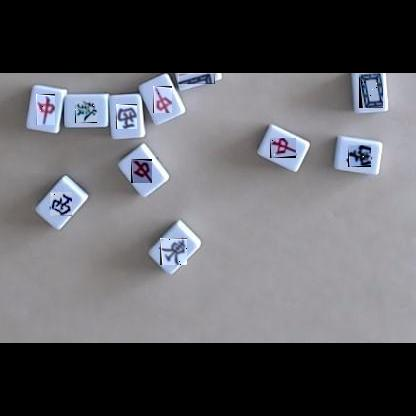1z: (160, 238, 187, 265)
2z: (348, 145, 371, 167)
3z: (50, 192, 72, 216), (116, 104, 137, 129)
5z: (359, 73, 383, 108), (178, 73, 215, 84)
6z: (75, 101, 97, 123)
7z: (36, 94, 55, 125), (270, 138, 296, 158), (153, 86, 172, 113), (131, 159, 152, 183)
